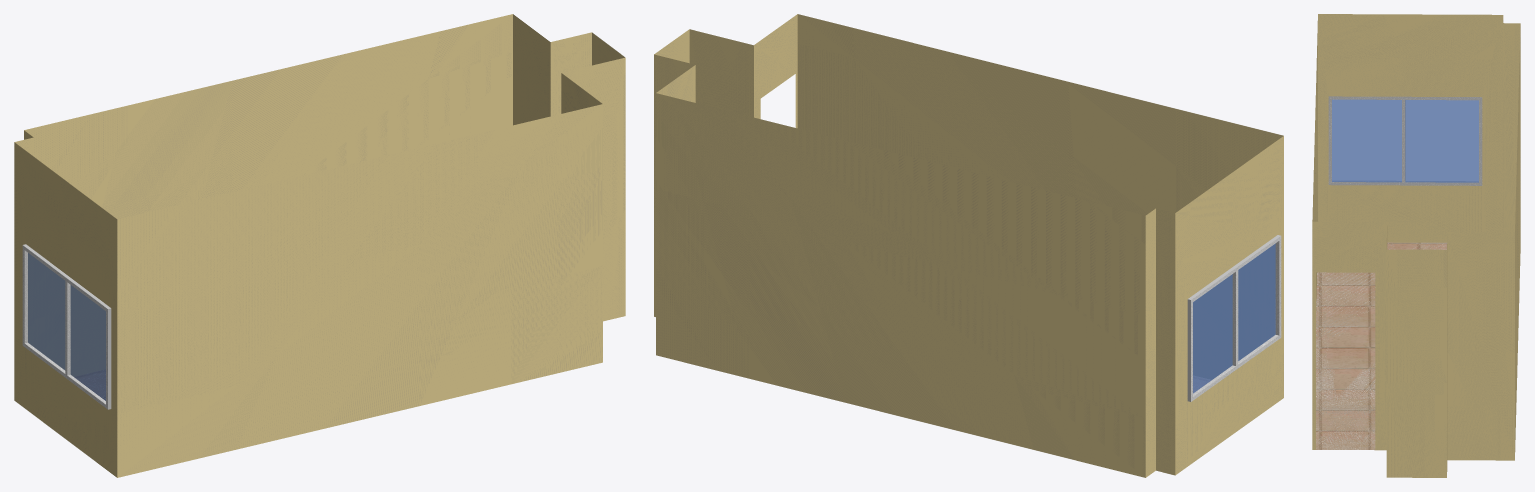
File: DES022.obj
3 views of the same model, side by side, from view 1: azimuth 30°, elevation 25°; view 2: azimuth 150°, elevation 25°; view 3: azimuth 270°, elevation 25° (orthographic). The views are drawn at different scales.
Parts seen in each view (by area): view 1: Mesh6 DES022 Model, Mesh1 ventana2_1 DES022 Model; view 2: Mesh6 DES022 Model, Mesh1 ventana2_1 DES022 Model; view 3: Mesh6 DES022 Model, Mesh1 ventana2_1 DES022 Model.
Boxes of the visible parts, bbox=[...] form: Mesh6 DES022 Model: bbox=[14, 14, 625, 477]; Mesh1 ventana2_1 DES022 Model: bbox=[22, 244, 111, 409]; Mesh6 DES022 Model: bbox=[654, 14, 1283, 477]; Mesh1 ventana2_1 DES022 Model: bbox=[1187, 235, 1281, 401]; Mesh6 DES022 Model: bbox=[1312, 14, 1520, 477]; Mesh1 ventana2_1 DES022 Model: bbox=[1328, 96, 1482, 185].
Size of the model in its own units: 8.03 by 3.6 by 2.98.
8 materials, 2 textured.
